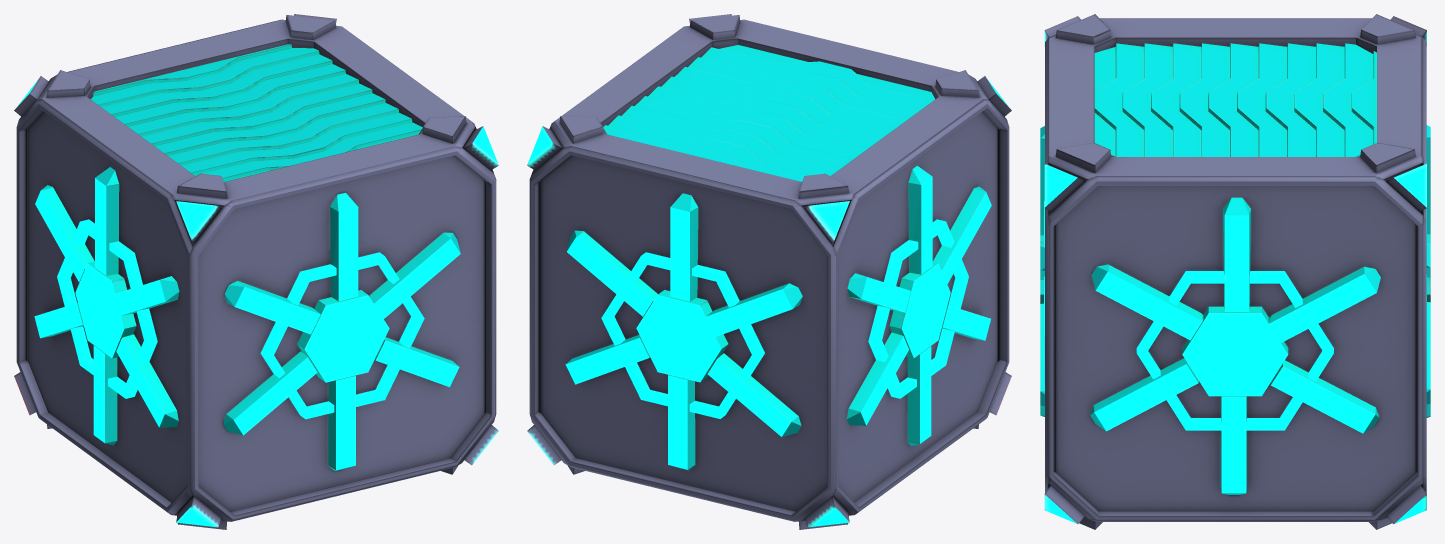
Rendered from FUT0110008.fbx.
3 renders of one model, left to right at view 1: azimuth 30°, elevation 25°; view 2: azimuth 150°, elevation 25°; view 3: azimuth 270°, elevation 25°, orthographic. The views are drawn at different scales.
Parts seen in each view (by area): view 1: smFUT0110008; view 2: smFUT0110008; view 3: smFUT0110008.
Boxes of the visible parts, x1,y1,x2,y2 form: smFUT0110008: (14, 14, 498, 529); smFUT0110008: (527, 14, 1011, 529); smFUT0110008: (1040, 14, 1430, 529).
Size of the model in its own units: 80.82 by 83.38 by 80.82.
Materials: 1 (1 with a texture image).
